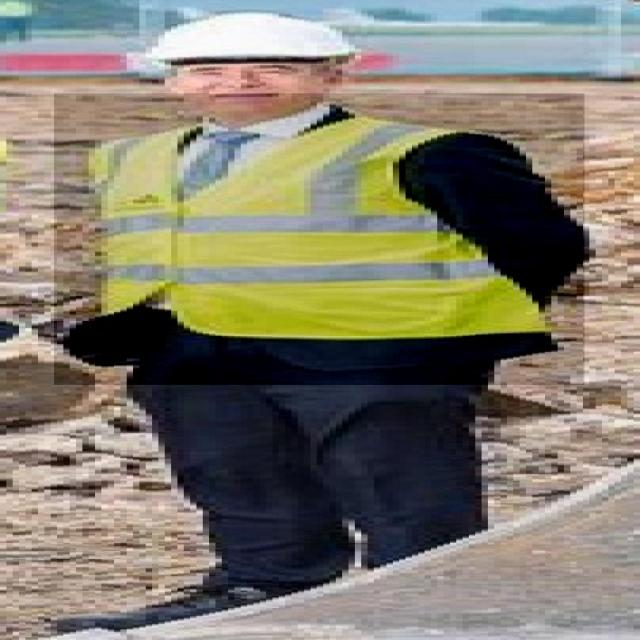Helmet: (0, 0, 474, 81)
Safety Vest: (54, 93, 584, 385)
